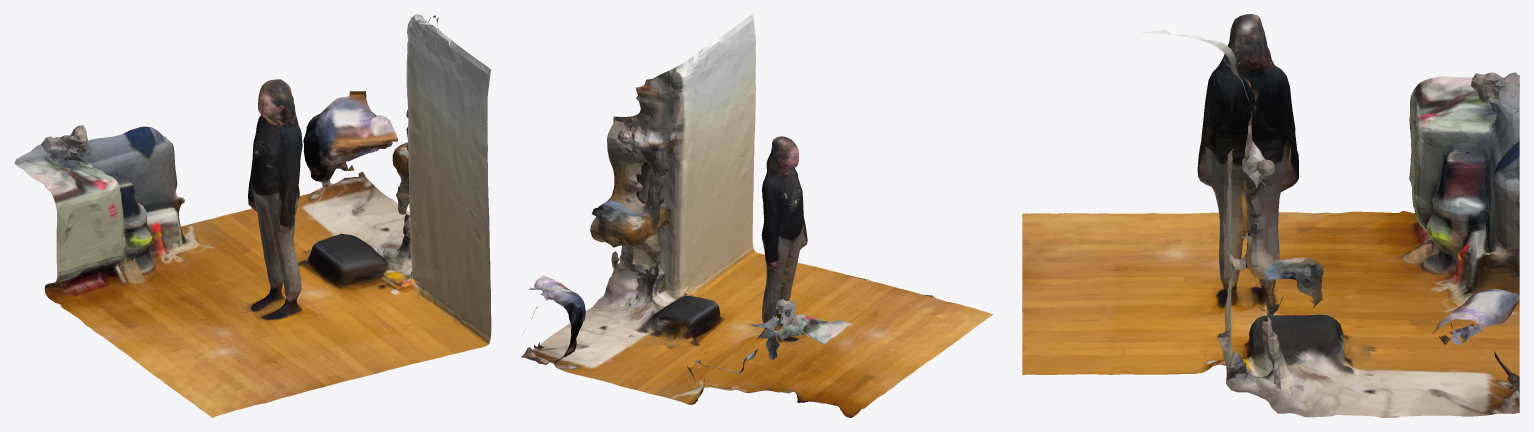
File: mbo_friends_Sarah.glb
3 renders of one model, left to right at view 1: azimuth 30°, elevation 25°; view 2: azimuth 150°, elevation 25°; view 3: azimuth 270°, elevation 25°, orthographic. The views are drawn at different scales.
Size of the model in its own units: 2.69 by 2.08 by 2.65.
1 material, 1 textured.
